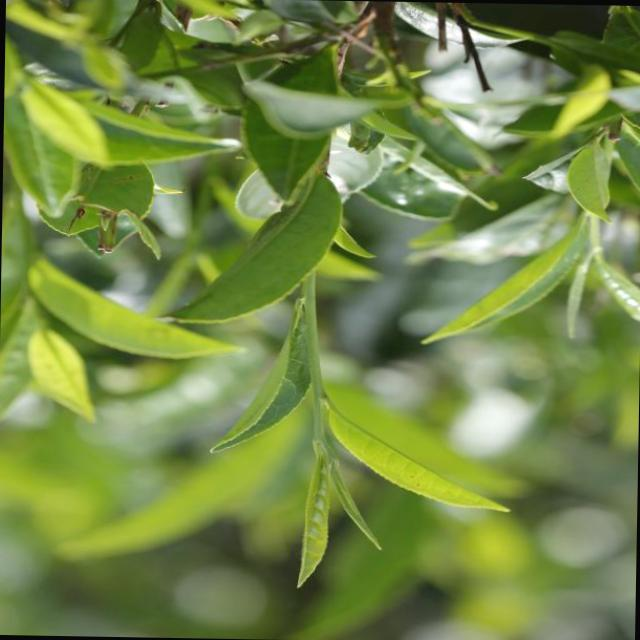Stem: (307, 357, 325, 400)
